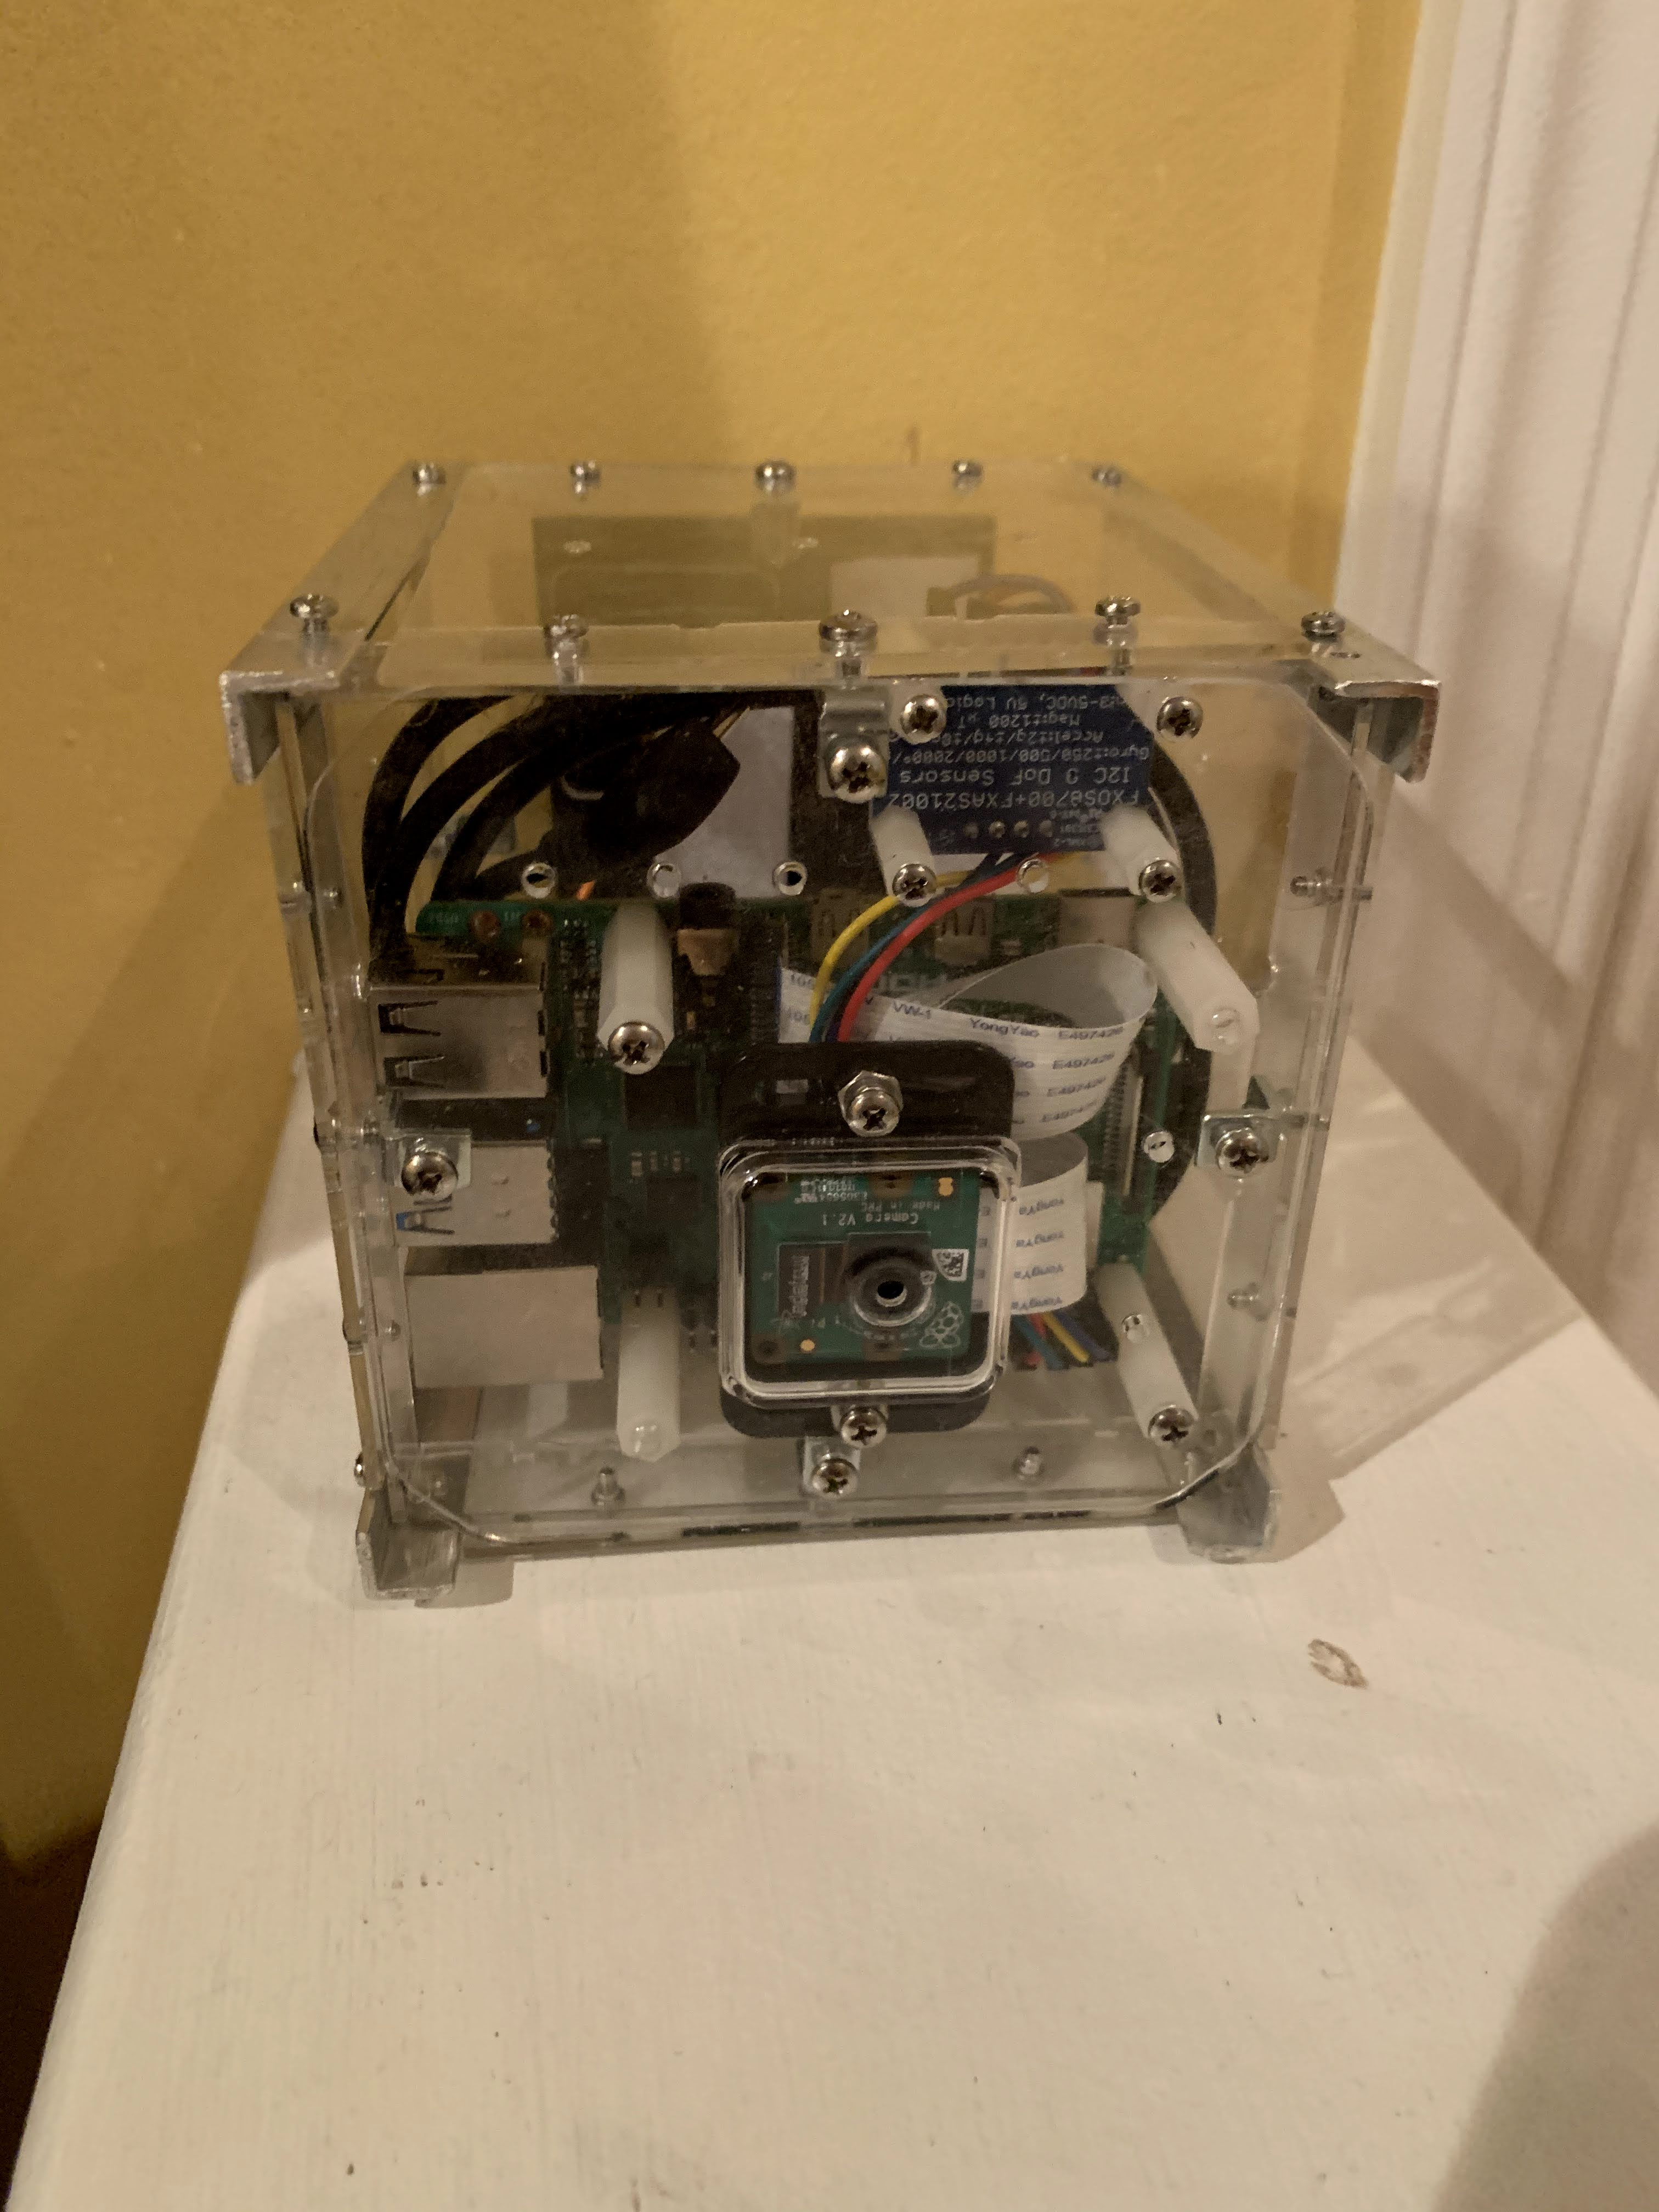Space-debris-cubesat: (220, 364, 1466, 1629)
